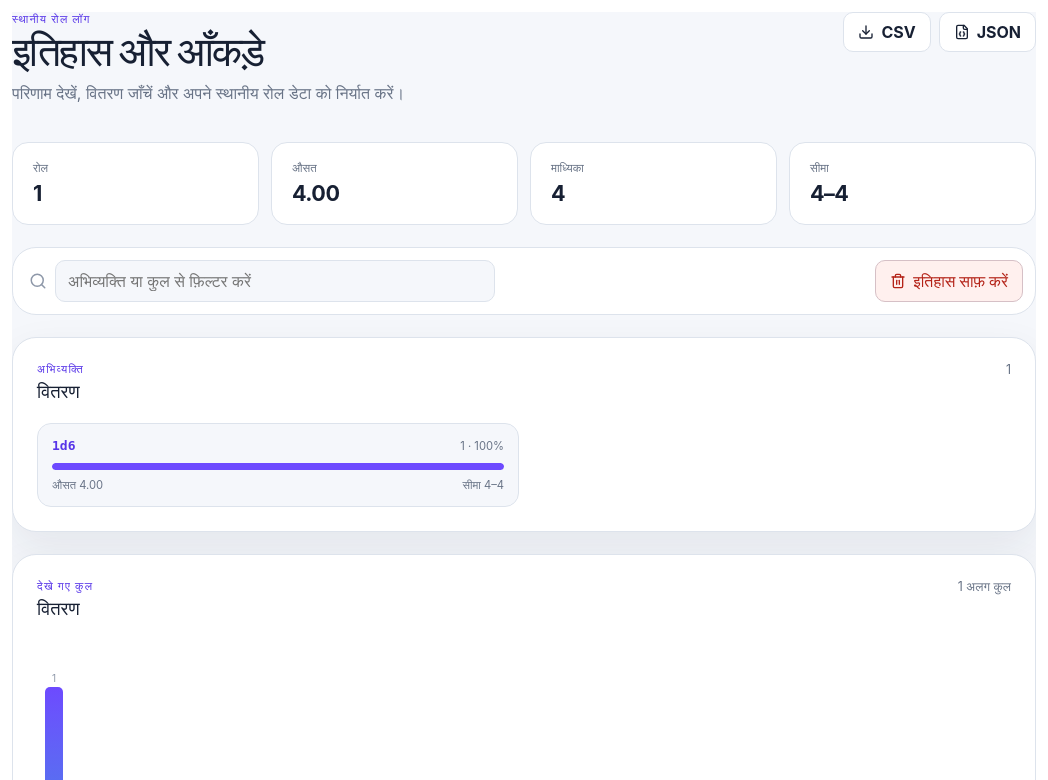
Scenario: HistoryPanel localized export feedback › reports a browser export failure in Hindi without raw details
The image size is (1048, 780).
Click the button "JSON" at point(987, 32), box [939,12,1036,52]
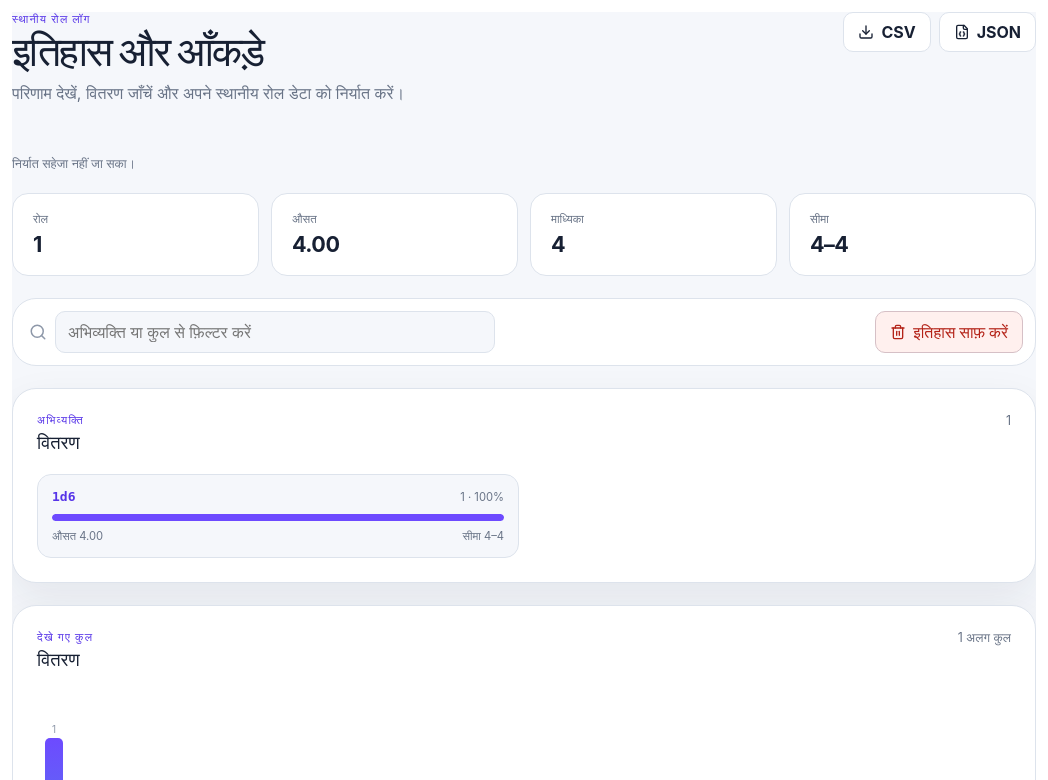
Expected: the message reads "निर्यात सहेजा नहीं जा सका।", [12,156,135,171]
